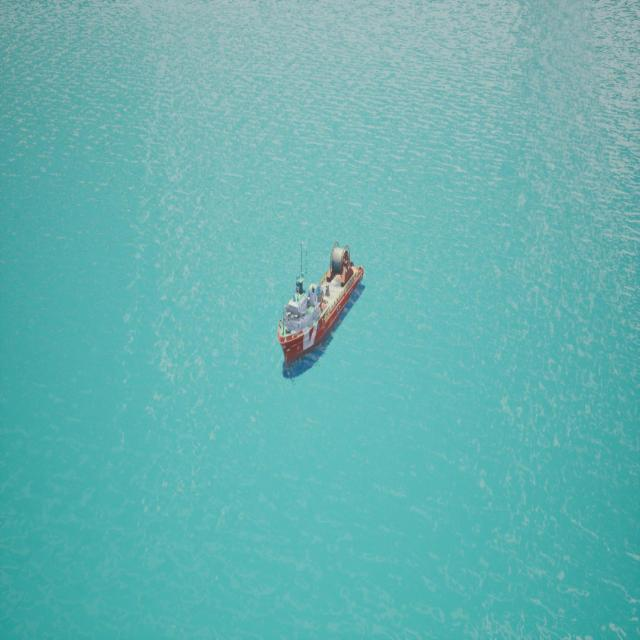tug boat: (279, 249, 366, 384)
